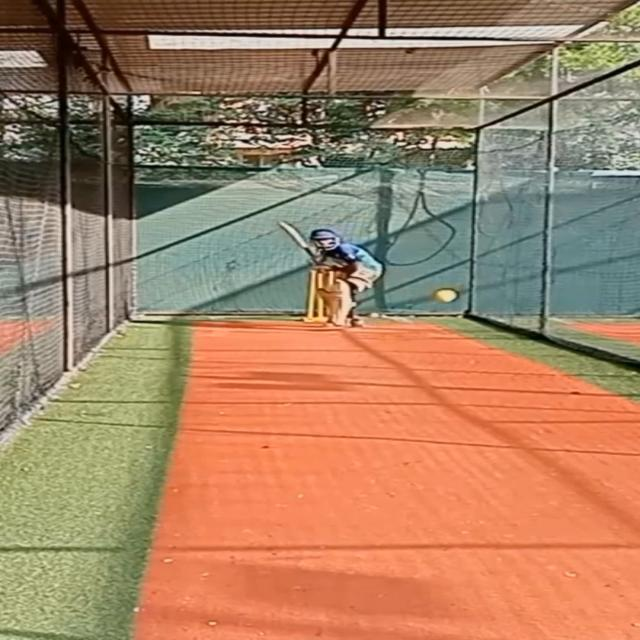ball: (431, 287, 463, 306)
stump: (302, 269, 339, 322)
